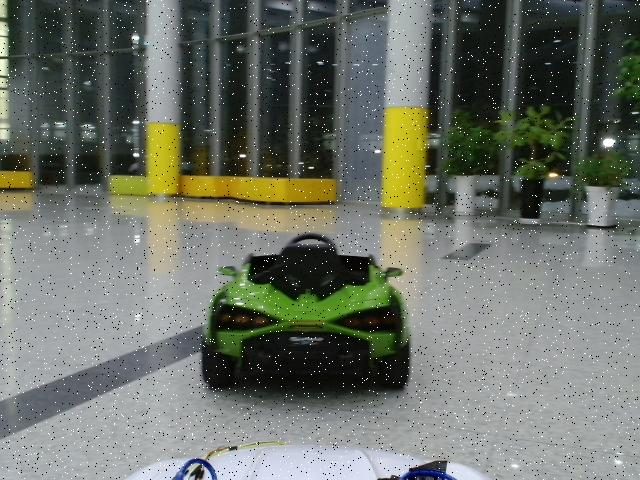car: (202, 234, 411, 391)
